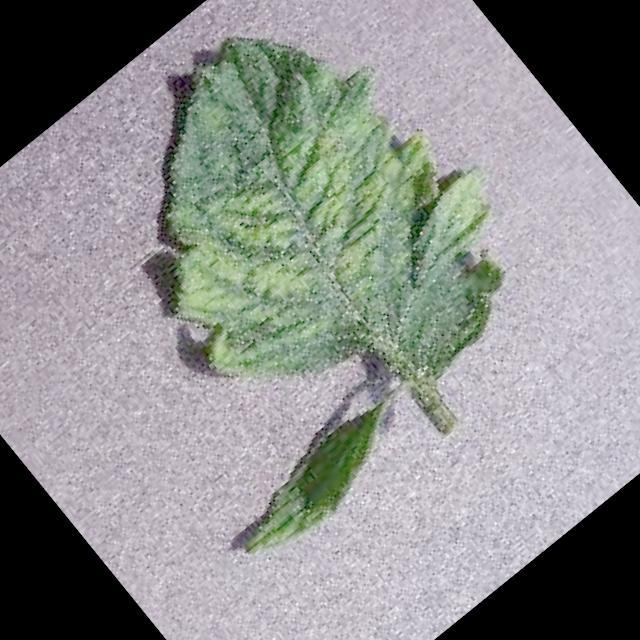Tomato mosaic virus leaf: (43, 0, 566, 487), (205, 386, 418, 580)
